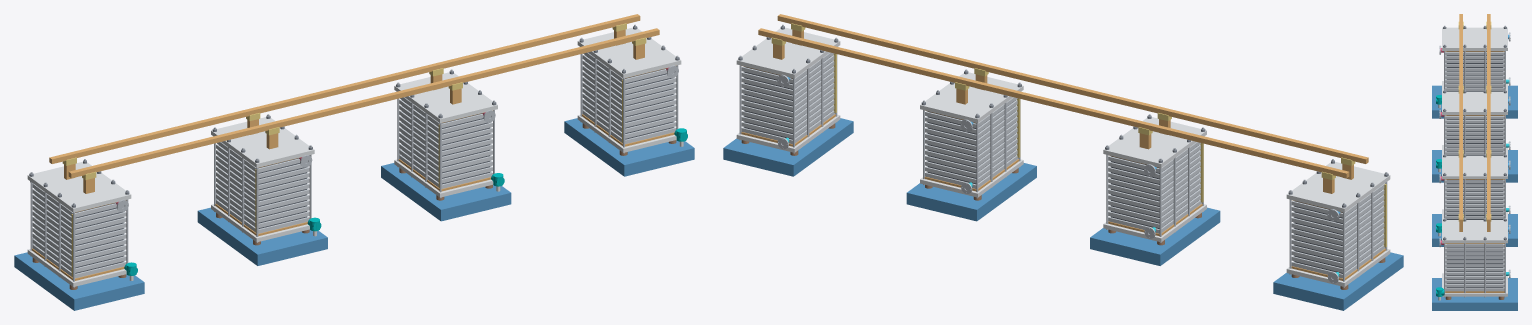
File: EL-200_Electrolyzer_Bay.glb
3 renders of one model, left to right at view 1: azimuth 30°, elevation 25°; view 2: azimuth 150°, elevation 25°; view 3: azimuth 270°, elevation 25°, orthographic. The views are drawn at different scales.
Parts seen in each view (by area): view 1: EL-200_234__Main_5000A_Negative_DC_Busway__COPPER_BUSBAR, EL-200_233__Main_5000A_Positive_DC_Busway__COPPER_BUSBAR, EL-200_001__Stack_EL201A_Skid_Plinth__STRUCTURAL_BLUE_EPOXY, EL-200_117__Stack_EL201C_Skid_Plinth__STRUCTURAL_BLUE_EPOXY, EL-200_175__Stack_EL201D_Skid_Plinth__STRUCTURAL_BLUE_EPOXY, EL-200_059__Stack_EL201B_Skid_Plinth__STRUCTURAL_BLUE_EPOXY, EL-200_004__Stack_EL201A_Top_Clamping_Plate__SS316L_POLISHED, EL-200_178__Stack_EL201D_Top_Clamping_Plate__SS316L_POLISHED, EL-200_120__Stack_EL201C_Top_Clamping_Plate__SS316L_POLISHED, EL-200_062__Stack_EL201B_Top_Clamping_Plate__SS316L_POLISHED, EL-200_032__Stack_EL201A_TieRod_M20__FLANGE_FORGED_SS, EL-200_206__Stack_EL201D_TieRod_M20__FLANGE_FORGED_SS (+46 smaller); view 2: EL-200_234__Main_5000A_Negative_DC_Busway__COPPER_BUSBAR, EL-200_233__Main_5000A_Positive_DC_Busway__COPPER_BUSBAR, EL-200_001__Stack_EL201A_Skid_Plinth__STRUCTURAL_BLUE_EPOXY, EL-200_175__Stack_EL201D_Skid_Plinth__STRUCTURAL_BLUE_EPOXY, EL-200_117__Stack_EL201C_Skid_Plinth__STRUCTURAL_BLUE_EPOXY, EL-200_059__Stack_EL201B_Skid_Plinth__STRUCTURAL_BLUE_EPOXY, EL-200_004__Stack_EL201A_Top_Clamping_Plate__SS316L_POLISHED, EL-200_178__Stack_EL201D_Top_Clamping_Plate__SS316L_POLISHED, EL-200_120__Stack_EL201C_Top_Clamping_Plate__SS316L_POLISHED, EL-200_062__Stack_EL201B_Top_Clamping_Plate__SS316L_POLISHED, EL-200_032__Stack_EL201A_TieRod_M20__FLANGE_FORGED_SS, EL-200_206__Stack_EL201D_TieRod_M20__FLANGE_FORGED_SS (+42 smaller); view 3: EL-200_175__Stack_EL201D_Skid_Plinth__STRUCTURAL_BLUE_EPOXY, EL-200_178__Stack_EL201D_Top_Clamping_Plate__SS316L_POLISHED, EL-200_004__Stack_EL201A_Top_Clamping_Plate__SS316L_POLISHED, EL-200_062__Stack_EL201B_Top_Clamping_Plate__SS316L_POLISHED, EL-200_120__Stack_EL201C_Top_Clamping_Plate__SS316L_POLISHED, EL-200_233__Main_5000A_Positive_DC_Busway__COPPER_BUSBAR, EL-200_234__Main_5000A_Negative_DC_Busway__COPPER_BUSBAR, EL-200_001__Stack_EL201A_Skid_Plinth__STRUCTURAL_BLUE_EPOXY, EL-200_059__Stack_EL201B_Skid_Plinth__STRUCTURAL_BLUE_EPOXY, EL-200_117__Stack_EL201C_Skid_Plinth__STRUCTURAL_BLUE_EPOXY, EL-200_206__Stack_EL201D_TieRod_M20__FLANGE_FORGED_SS, EL-200_032__Stack_EL201A_TieRod_M20__FLANGE_FORGED_SS (+58 smaller).
Boxes of the visible parts, <box> form: EL-200_234__Main_5000A_Negative_DC_Busway__COPPER_BUSBAR: <box>68,28,659,178</box>; EL-200_233__Main_5000A_Positive_DC_Busway__COPPER_BUSBAR: <box>49,14,640,163</box>; EL-200_001__Stack_EL201A_Skid_Plinth__STRUCTURAL_BLUE_EPOXY: <box>14,252,144,310</box>; EL-200_117__Stack_EL201C_Skid_Plinth__STRUCTURAL_BLUE_EPOXY: <box>381,163,511,221</box>; EL-200_175__Stack_EL201D_Skid_Plinth__STRUCTURAL_BLUE_EPOXY: <box>564,118,694,176</box>; EL-200_059__Stack_EL201B_Skid_Plinth__STRUCTURAL_BLUE_EPOXY: <box>197,207,327,265</box>; EL-200_004__Stack_EL201A_Top_Clamping_Plate__SS316L_POLISHED: <box>27,161,131,212</box>; EL-200_178__Stack_EL201D_Top_Clamping_Plate__SS316L_POLISHED: <box>577,27,681,78</box>; EL-200_120__Stack_EL201C_Top_Clamping_Plate__SS316L_POLISHED: <box>394,72,497,123</box>; EL-200_062__Stack_EL201B_Top_Clamping_Plate__SS316L_POLISHED: <box>211,117,314,167</box>; EL-200_032__Stack_EL201A_TieRod_M20__FLANGE_FORGED_SS: <box>30,159,128,287</box>; EL-200_206__Stack_EL201D_TieRod_M20__FLANGE_FORGED_SS: <box>580,24,678,153</box>; EL-200_234__Main_5000A_Negative_DC_Busway__COPPER_BUSBAR: <box>777,14,1368,163</box>; EL-200_233__Main_5000A_Positive_DC_Busway__COPPER_BUSBAR: <box>758,28,1349,178</box>; EL-200_001__Stack_EL201A_Skid_Plinth__STRUCTURAL_BLUE_EPOXY: <box>1273,252,1403,310</box>; EL-200_175__Stack_EL201D_Skid_Plinth__STRUCTURAL_BLUE_EPOXY: <box>723,118,853,176</box>; EL-200_117__Stack_EL201C_Skid_Plinth__STRUCTURAL_BLUE_EPOXY: <box>906,163,1036,221</box>; EL-200_059__Stack_EL201B_Skid_Plinth__STRUCTURAL_BLUE_EPOXY: <box>1090,207,1220,265</box>; EL-200_004__Stack_EL201A_Top_Clamping_Plate__SS316L_POLISHED: <box>1286,161,1390,212</box>; EL-200_178__Stack_EL201D_Top_Clamping_Plate__SS316L_POLISHED: <box>736,27,840,78</box>; EL-200_120__Stack_EL201C_Top_Clamping_Plate__SS316L_POLISHED: <box>920,72,1023,123</box>; EL-200_062__Stack_EL201B_Top_Clamping_Plate__SS316L_POLISHED: <box>1103,117,1206,167</box>; EL-200_032__Stack_EL201A_TieRod_M20__FLANGE_FORGED_SS: <box>1289,159,1387,287</box>; EL-200_206__Stack_EL201D_TieRod_M20__FLANGE_FORGED_SS: <box>739,24,837,153</box>; EL-200_175__Stack_EL201D_Skid_Plinth__STRUCTURAL_BLUE_EPOXY: <box>1432,278,1517,310</box>; EL-200_178__Stack_EL201D_Top_Clamping_Plate__SS316L_POLISHED: <box>1442,220,1507,243</box>; EL-200_004__Stack_EL201A_Top_Clamping_Plate__SS316L_POLISHED: <box>1442,27,1507,50</box>; EL-200_062__Stack_EL201B_Top_Clamping_Plate__SS316L_POLISHED: <box>1442,92,1507,114</box>; EL-200_120__Stack_EL201C_Top_Clamping_Plate__SS316L_POLISHED: <box>1442,156,1507,178</box>; EL-200_233__Main_5000A_Positive_DC_Busway__COPPER_BUSBAR: <box>1487,14,1490,223</box>; EL-200_234__Main_5000A_Negative_DC_Busway__COPPER_BUSBAR: <box>1459,14,1462,223</box>; EL-200_001__Stack_EL201A_Skid_Plinth__STRUCTURAL_BLUE_EPOXY: <box>1432,85,1517,118</box>; EL-200_059__Stack_EL201B_Skid_Plinth__STRUCTURAL_BLUE_EPOXY: <box>1432,150,1517,182</box>; EL-200_117__Stack_EL201C_Skid_Plinth__STRUCTURAL_BLUE_EPOXY: <box>1432,214,1517,246</box>; EL-200_206__Stack_EL201D_TieRod_M20__FLANGE_FORGED_SS: <box>1444,218,1505,297</box>; EL-200_032__Stack_EL201A_TieRod_M20__FLANGE_FORGED_SS: <box>1444,25,1505,89</box>.
Size of the model in its own units: 8.12 by 1.49 by 1.36.
